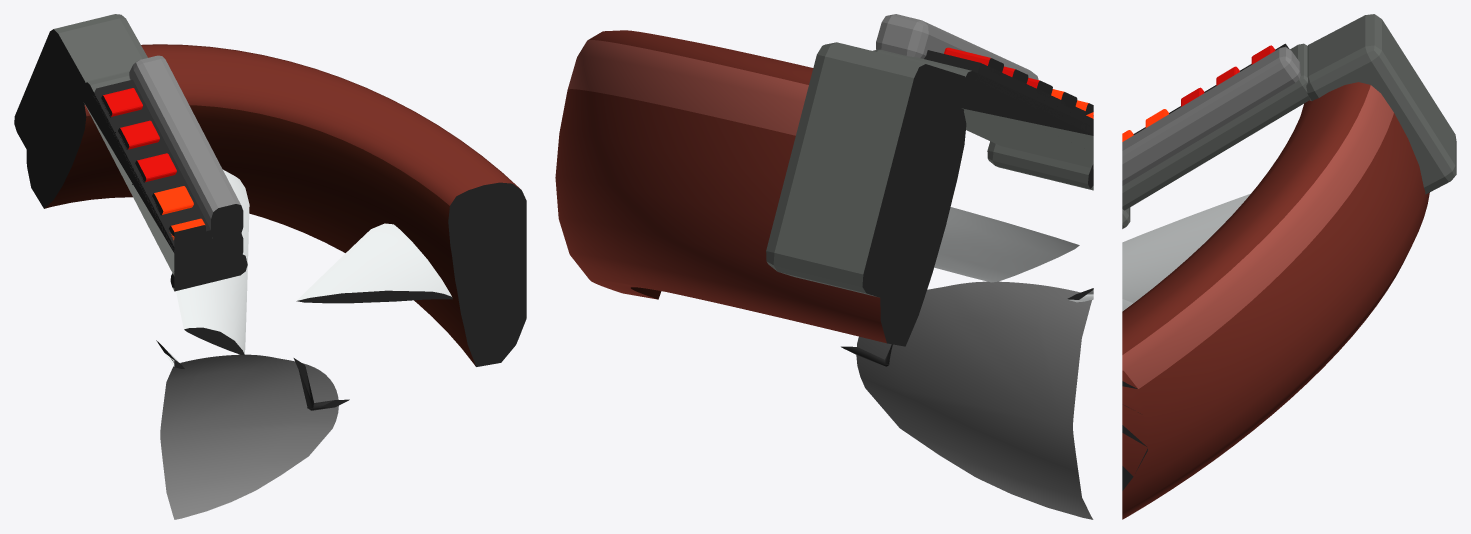
Rendered from zeppelin_55.glb.
3 renders of one model, left to right at view 1: azimuth 30°, elevation 25°; view 2: azimuth 150°, elevation 25°; view 3: azimuth 270°, elevation 25°, orthographic. The views are drawn at different scales.
Visible parts, largest first — view 1: duct.001, cowl.001, bridge_clamp.001, bridge_rail_r.001, blade_0.001, bridge_base.001, blade_1.001, bridge_channel.001, bridge_foot.001, lamp_1.001, lamp_0.001, lamp_2.001 (+2 smaller); view 2: duct.001, bridge_clamp.001, cowl.001, bridge_base.001, blade_1.001, bridge_rail_r.001, bridge_foot.001, bridge_channel.001; view 3: duct.001, bridge_clamp.001, bridge_rail_r.001, bridge_base.001, blade_1.001.
Boxes of the visible parts, x1,y1,x2,y2 form: duct.001: (26,44,526,366); cowl.001: (160,354,338,519); bridge_clamp.001: (14,14,147,184); bridge_rail_r.001: (129,55,243,240); blade_0.001: (296,223,452,303); bridge_base.001: (81,72,243,276); blade_1.001: (176,169,249,355); bridge_channel.001: (93,79,211,252); bridge_foot.001: (170,254,247,291); lamp_1.001: (118,120,159,149); lamp_0.001: (101,88,142,117); lamp_2.001: (135,153,176,182); duct.001: (555,30,966,346); bridge_clamp.001: (766,42,966,305); cowl.001: (856,281,1093,519); bridge_base.001: (873,49,1093,168); blade_1.001: (934,207,1079,282); bridge_rail_r.001: (876,14,1038,79); bridge_foot.001: (987,141,1093,190); bridge_channel.001: (924,50,1093,134); duct.001: (1122,82,1429,519); bridge_clamp.001: (1306,14,1456,194); bridge_rail_r.001: (1122,46,1300,185); bridge_base.001: (1122,43,1310,210); blade_1.001: (1122,193,1250,302).
Size of the model in its own units: 24 by 26.22 by 18.9.
